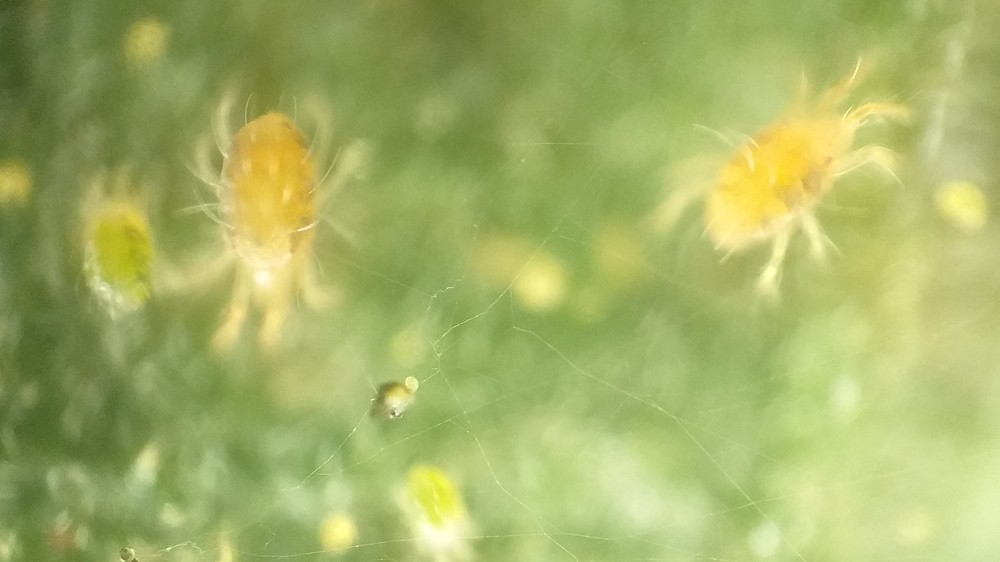Aracnido Rojo: (649, 40, 928, 307), (170, 83, 368, 360), (55, 155, 187, 332)
